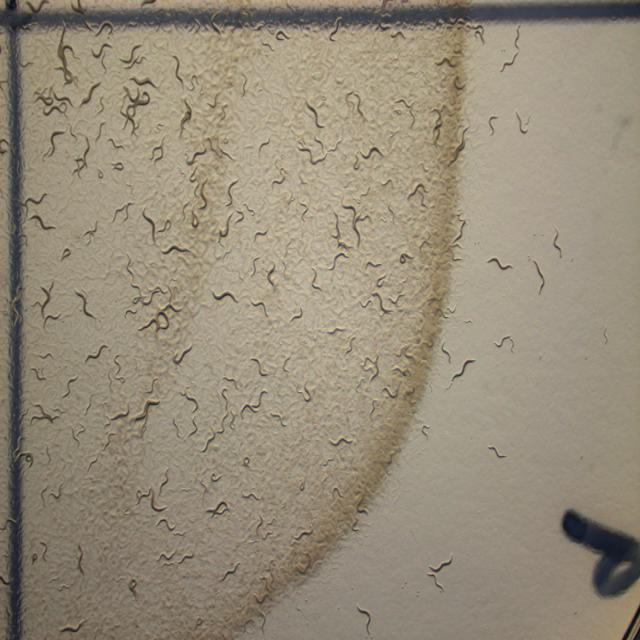filarid: (448, 360, 475, 388), (75, 290, 95, 318), (158, 517, 184, 536), (531, 259, 545, 294), (142, 210, 155, 241), (358, 606, 371, 635), (430, 556, 452, 573), (250, 357, 269, 376), (212, 290, 239, 303), (488, 257, 512, 270), (251, 300, 269, 317), (489, 445, 506, 458), (495, 335, 511, 347), (554, 229, 561, 256), (268, 264, 275, 288), (254, 257, 259, 268)
